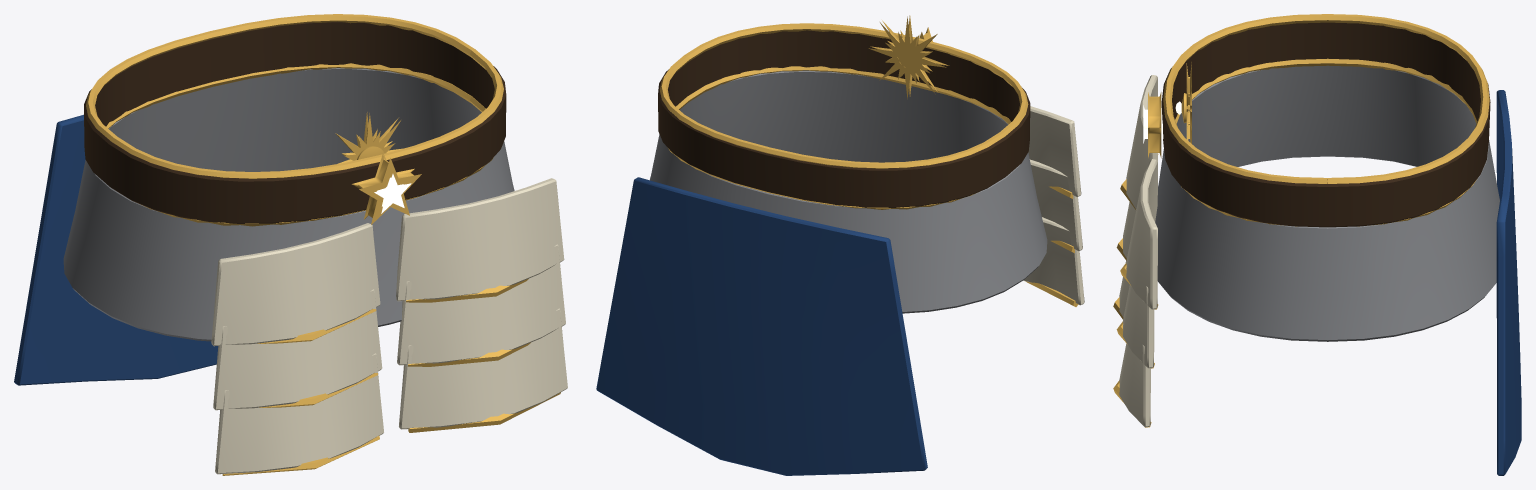
File: asc_archon_crusader_inner.glb
The picture shows the model from 3 angles, left to right: view 1: azimuth 30°, elevation 25°; view 2: azimuth 150°, elevation 25°; view 3: azimuth 270°, elevation 25°; orthographic projection. The views are drawn at different scales.
Visible parts, largest first — view 1: asc_archon_crusader_inner, AT_thigh_L, AT_thigh_R; view 2: asc_archon_crusader_inner, AT_thigh_R; view 3: asc_archon_crusader_inner, AT_thigh_L, AT_thigh_R.
Part boxes in pixels (bbox=[...]): asc_archon_crusader_inner: bbox=[14, 14, 514, 385]; AT_thigh_L: bbox=[396, 178, 567, 432]; AT_thigh_R: bbox=[211, 223, 383, 475]; asc_archon_crusader_inner: bbox=[596, 15, 1047, 475]; AT_thigh_R: bbox=[1023, 106, 1084, 306]; asc_archon_crusader_inner: bbox=[1143, 14, 1521, 475]; AT_thigh_L: bbox=[1113, 159, 1158, 427]; AT_thigh_R: bbox=[1113, 75, 1158, 319].
Size of the model in its own units: 0.5145 by 0.4605 by 0.4717.
